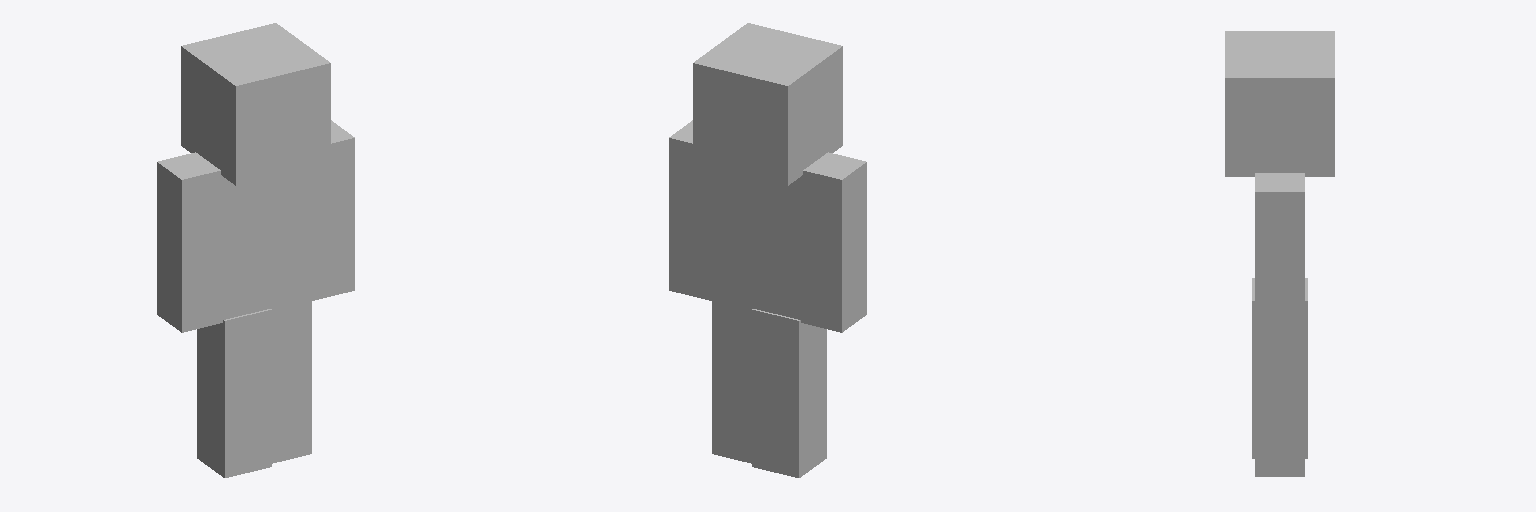
Rendered from vl_cosmetics_leg_left.obj.
3 renders of one model, left to right at view 1: azimuth 30°, elevation 25°; view 2: azimuth 150°, elevation 25°; view 3: azimuth 270°, elevation 25°, orthographic.
Visible parts, largest first — view 1: LeglPreview_Cube.020, Leg_Left_Cube.005; view 2: LeglPreview_Cube.020, Leg_Left_Cube.005; view 3: LeglPreview_Cube.020, Leg_Left_Cube.005.
Boxes of the visible parts, box(x1,y1,x2,y2) form: LeglPreview_Cube.020: box(157, 23, 354, 463); Leg_Left_Cube.005: box(197, 309, 271, 477); LeglPreview_Cube.020: box(669, 23, 866, 463); Leg_Left_Cube.005: box(752, 309, 826, 477); LeglPreview_Cube.020: box(1225, 31, 1334, 476); Leg_Left_Cube.005: box(1252, 278, 1307, 458).
Bounding box in the file's own units: 8 × 17.79 × 4.4.